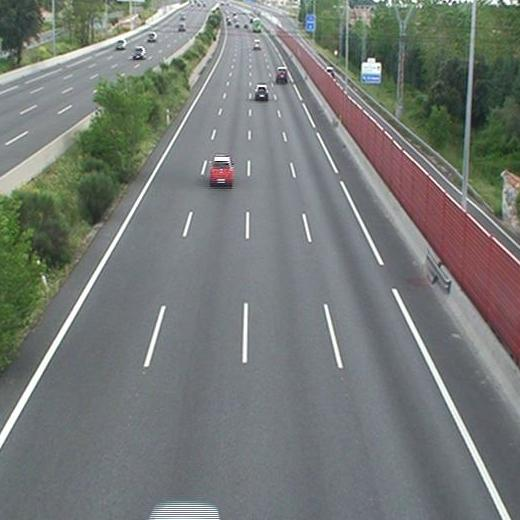car: (211, 156, 232, 184), (255, 86, 269, 98), (276, 67, 287, 79), (253, 40, 260, 50)
